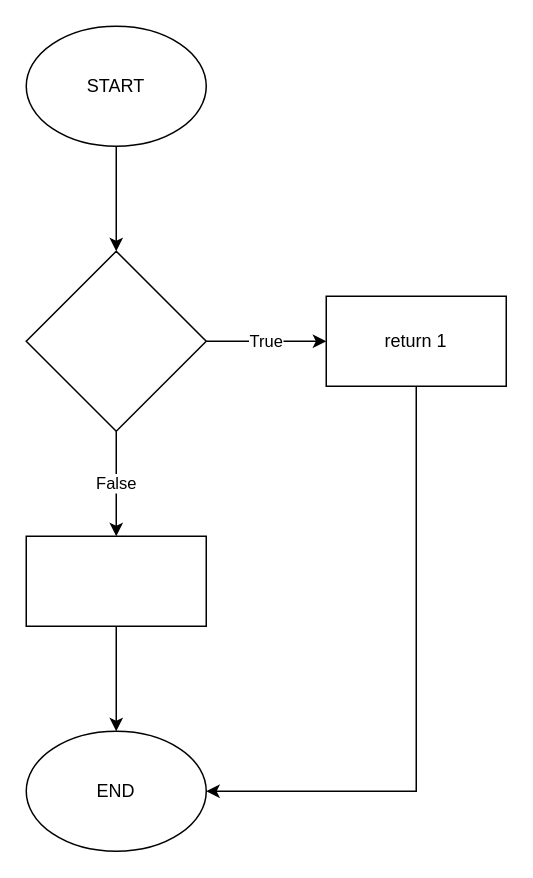
Some shapes in this 533 by 878 pixel diagram are drawn without their labels. The shapes that lost their labels are listed below. From the top down, each one's centre as x and y in pixels, then its label:
At pixel 115 340: "tumpuk.top == -1".
At pixel 115 580: "return 0".
